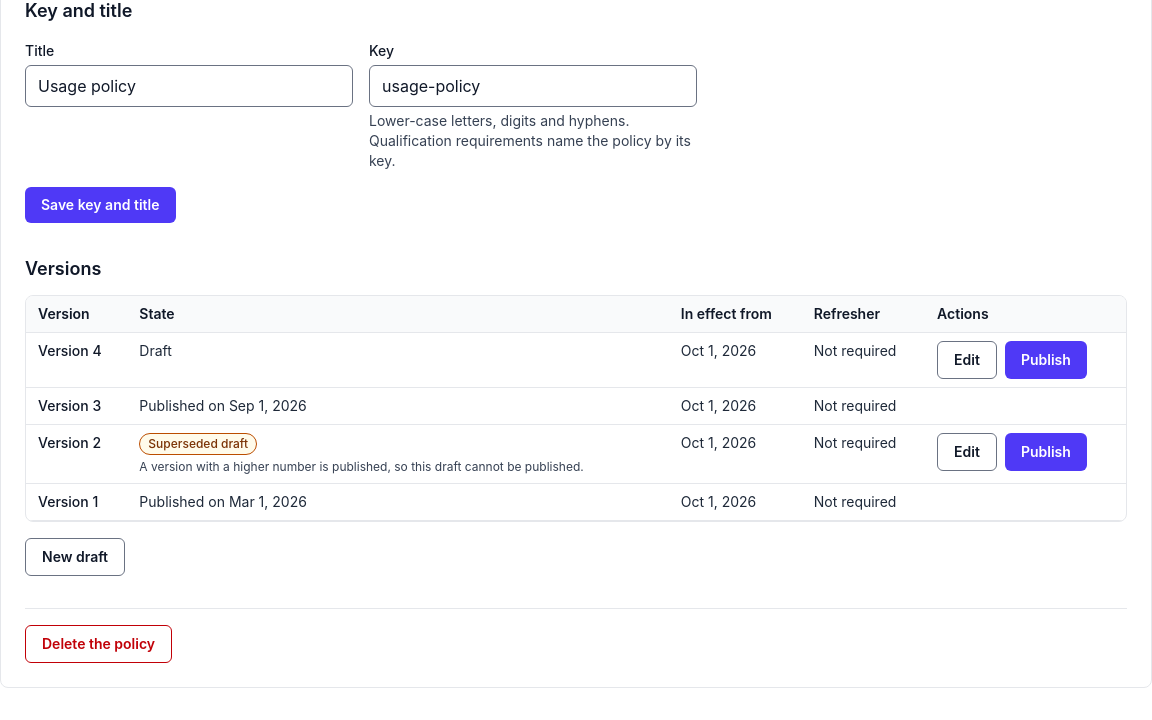
the publish dialog › shows the statement of a 409 published answer and no confirmation
(page scrolled)
Click the button named "Publish Version 4" at (1046, 360), box [1005,341,1087,379]
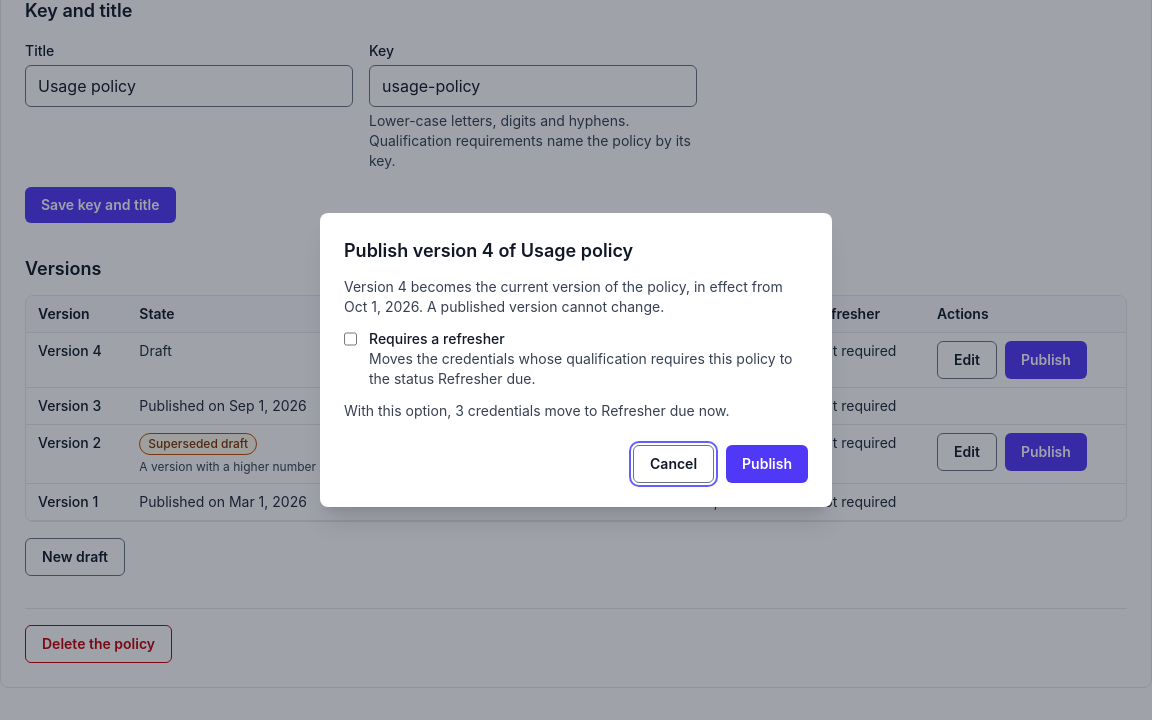
Result: the text "With this option, 3 credentials move to Refresher due now." is shown at [344,402,730,419]
Click the button "Publish" at (767, 464), box [726,445,808,483]
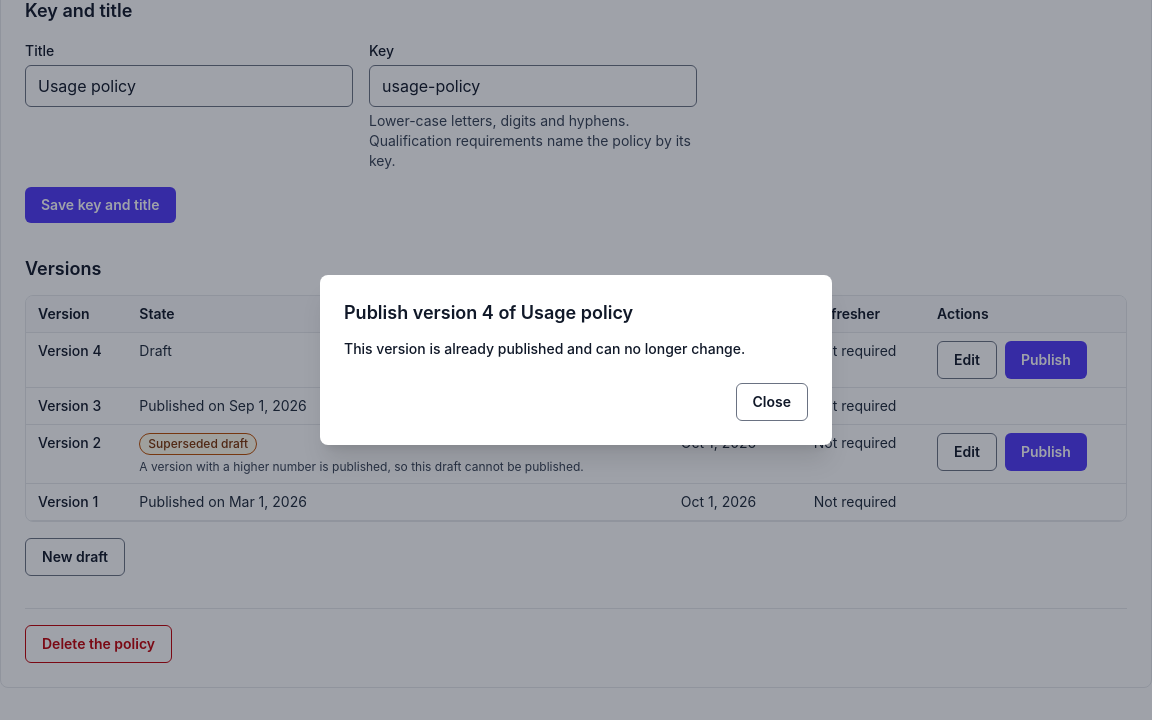
Result: the message reads "This version is already published and can no longer change." at [344,340,745,357]
Result: the buttons read "Close", in this order at [736,383,808,421]
